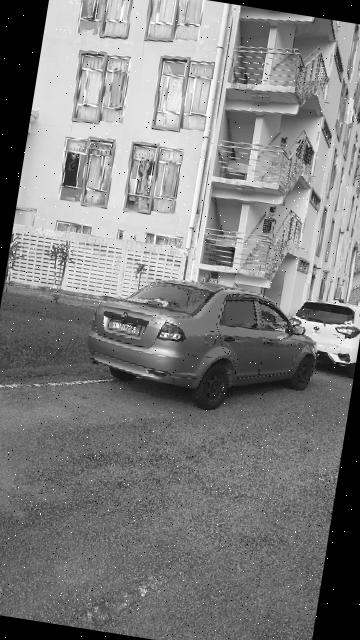License_Plate: (105, 317, 144, 339)
car: (78, 264, 328, 429), (278, 290, 360, 384)
